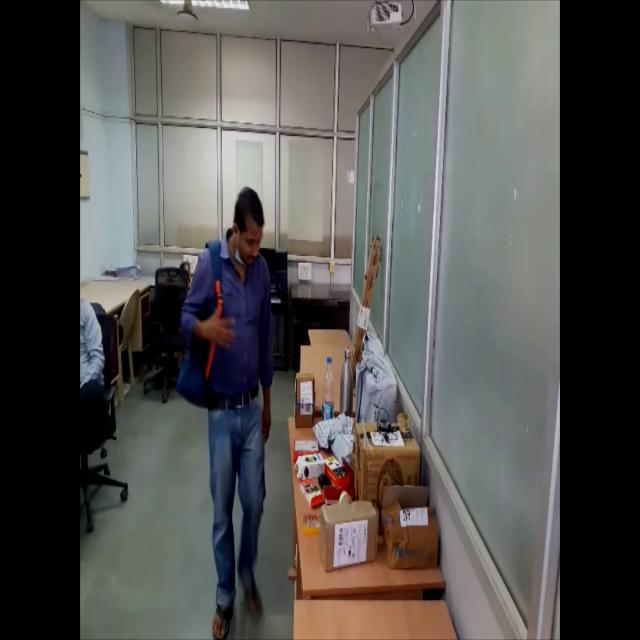normal: (177, 179, 274, 640)
